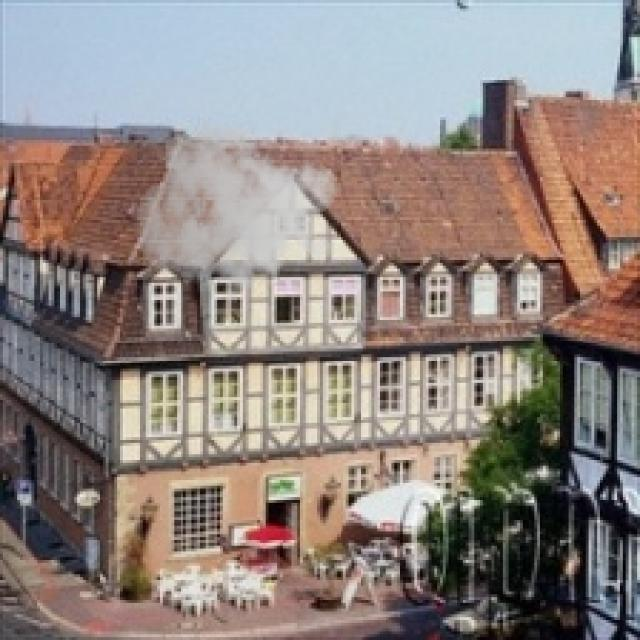Smoke: (134, 112, 340, 314)
